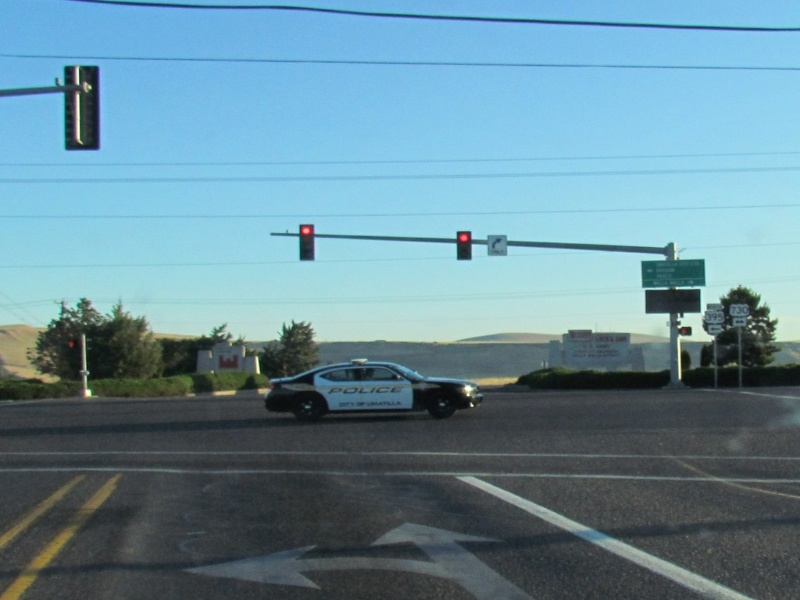red_light: (452, 230, 475, 262), (298, 228, 320, 260)
